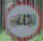Heavy Vehicles: (6, 2, 41, 40)
